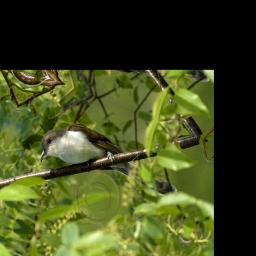Cuckoo: (32, 111, 168, 208)
